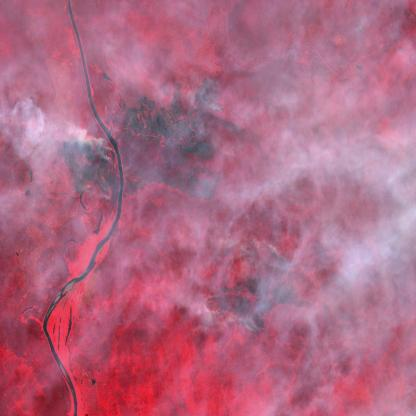fire: (81, 134, 119, 168)
